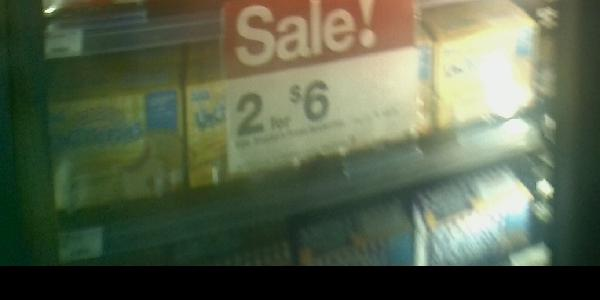icecream: (45, 90, 187, 215), (433, 26, 539, 129)
